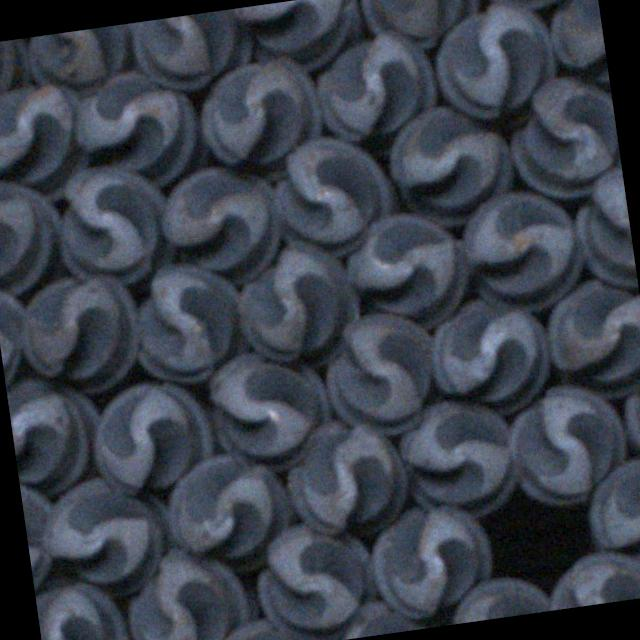tool_b: (232, 234, 368, 372), (66, 61, 206, 195), (39, 469, 178, 603), (384, 101, 522, 235), (455, 185, 590, 320), (194, 56, 328, 192), (265, 130, 400, 264), (12, 268, 146, 401), (338, 206, 473, 338), (501, 380, 634, 513), (153, 162, 287, 294), (425, 292, 557, 424), (392, 395, 524, 527), (282, 410, 416, 540), (201, 342, 336, 471), (159, 448, 295, 576), (314, 306, 442, 441), (428, 0, 562, 127), (365, 500, 499, 625), (126, 256, 252, 388), (50, 162, 176, 294), (501, 70, 625, 204), (250, 516, 382, 640), (311, 24, 444, 146), (85, 375, 218, 496), (120, 540, 256, 640), (6, 368, 110, 496), (541, 274, 640, 404), (0, 79, 95, 209), (124, 8, 258, 94), (230, 0, 368, 77), (569, 166, 639, 296), (25, 23, 137, 98), (0, 171, 66, 297), (582, 457, 640, 574), (358, 0, 483, 54), (544, 0, 611, 100), (542, 545, 640, 611), (35, 575, 132, 640), (438, 572, 552, 626), (315, 592, 435, 640), (19, 472, 63, 598), (0, 273, 37, 408), (190, 612, 320, 640), (617, 355, 640, 481), (0, 38, 33, 117), (462, 0, 593, 15)
void: (476, 484, 602, 600)
